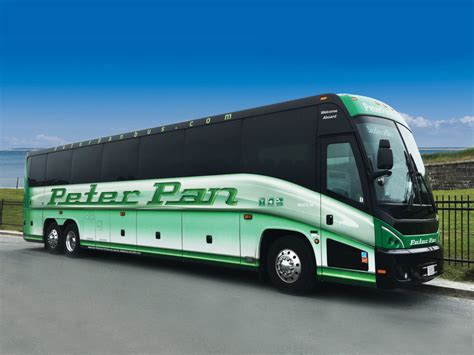bus: (21, 95, 443, 289)
